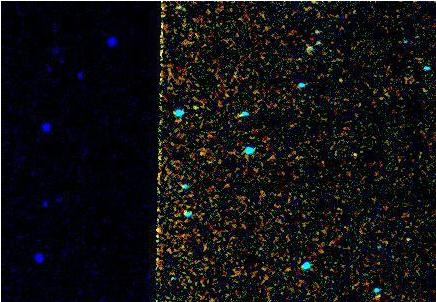star: (181, 92, 211, 122)
